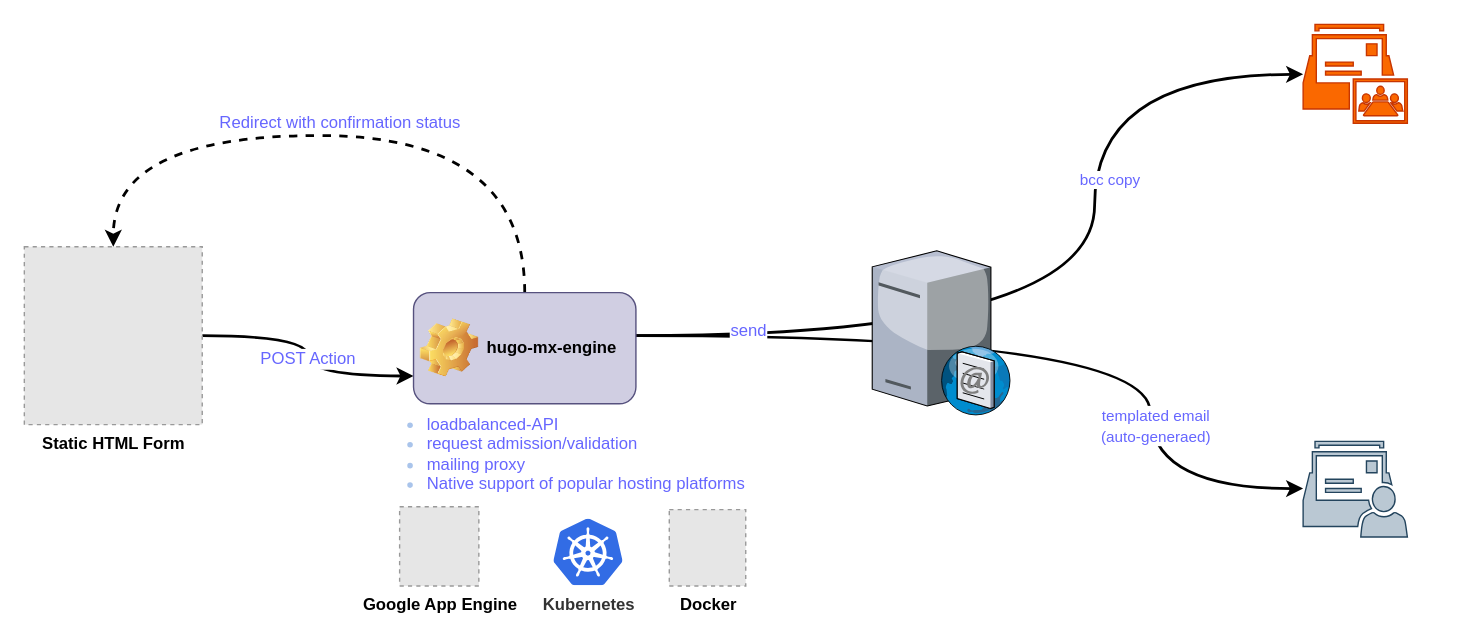
Image size: 1460x639. Some labels were removed from this diagram. Grey dashed boxes stand in for pictures. Here are the shapes that lost their labels. From the top down, the centre of each, then its label:
At point (1354, 73): "Corporate's mailbox".
At point (941, 330): "SMTP Server (TLS + authentication)".
At point (1354, 488): "User's mailbox".
